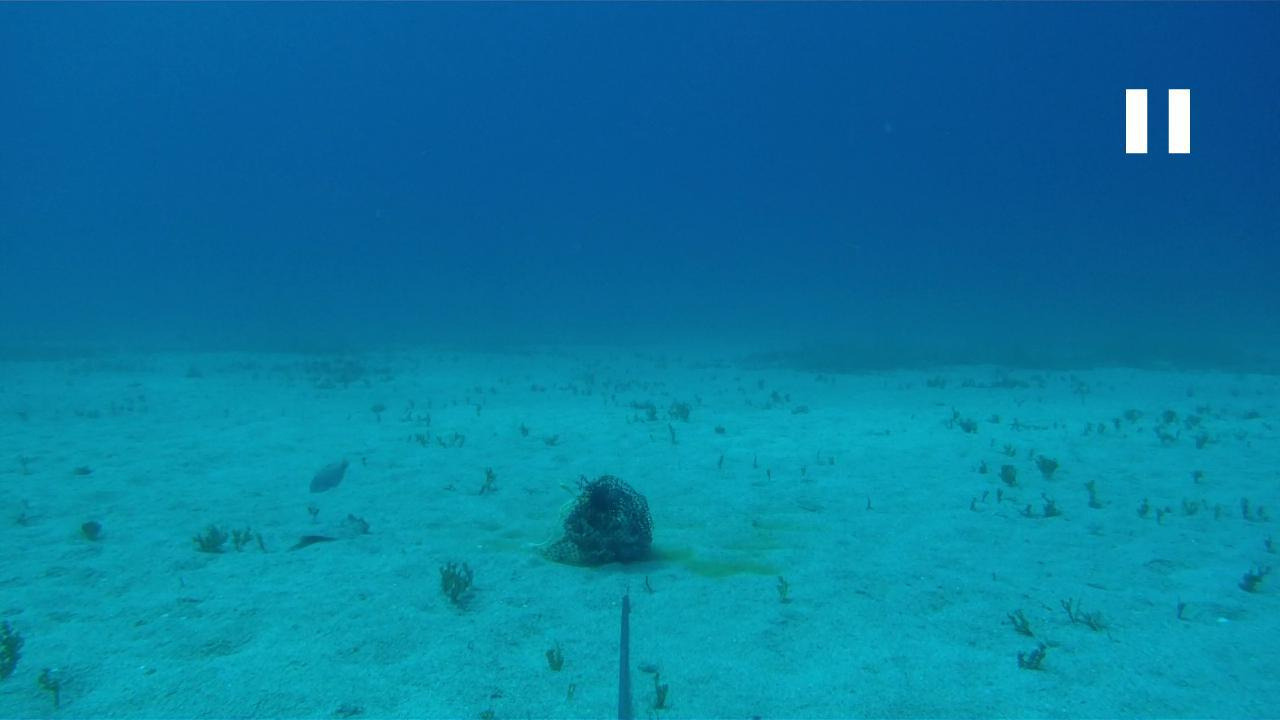bothus: (291, 510, 376, 542)
